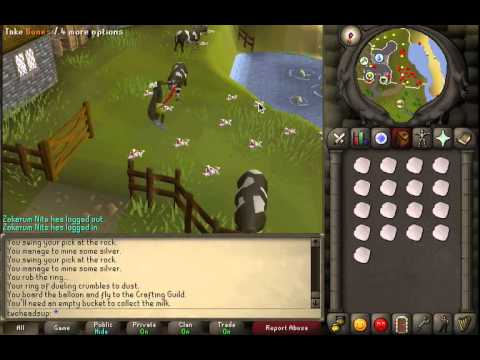rs_cow: (231, 168, 272, 234), (172, 26, 204, 52), (169, 63, 190, 99)
rs_player: (142, 81, 170, 129)
